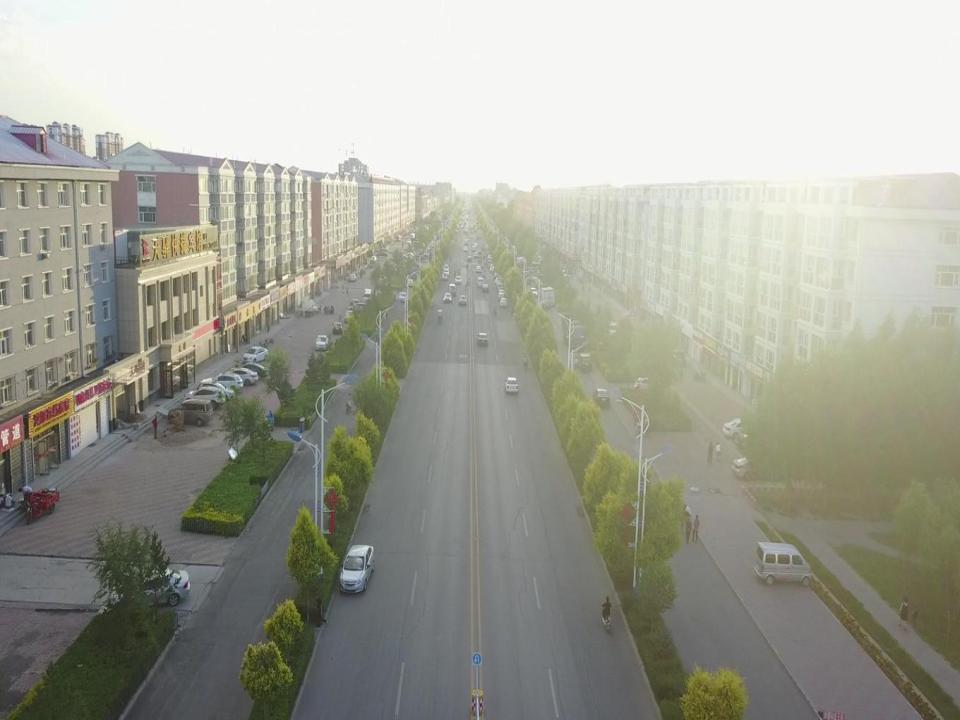car: (117, 568, 191, 607), (339, 544, 374, 593), (732, 456, 784, 482), (735, 429, 778, 452), (722, 417, 764, 439), (183, 388, 225, 408), (197, 380, 235, 402), (220, 368, 258, 388), (209, 373, 243, 391), (241, 346, 268, 364), (236, 364, 269, 377), (591, 388, 610, 408), (503, 376, 519, 393), (634, 378, 654, 390), (348, 302, 368, 314), (604, 320, 618, 337), (580, 353, 592, 372), (315, 334, 328, 350), (476, 332, 488, 346), (343, 308, 354, 322), (332, 322, 343, 334), (397, 292, 408, 302), (529, 286, 538, 298), (443, 292, 452, 304), (458, 295, 467, 306), (402, 252, 414, 260), (500, 297, 508, 307), (377, 252, 388, 259), (481, 284, 489, 293), (440, 274, 448, 283), (498, 289, 506, 297), (454, 276, 462, 284), (348, 273, 356, 281), (406, 280, 414, 288), (370, 255, 376, 264), (489, 264, 496, 271), (493, 272, 499, 280), (487, 260, 493, 268), (475, 264, 481, 272), (443, 269, 449, 277), (495, 278, 502, 284), (467, 255, 473, 261), (488, 254, 493, 261), (406, 238, 411, 245), (485, 243, 491, 248), (473, 252, 478, 258), (473, 242, 478, 248), (383, 245, 388, 251), (472, 246, 477, 251), (478, 249, 482, 254), (464, 247, 468, 252), (404, 245, 407, 250)
truck: (561, 312, 586, 352), (539, 286, 555, 311), (575, 269, 584, 281), (350, 298, 359, 309)
van: (753, 540, 813, 588), (168, 399, 214, 426), (672, 348, 685, 366), (448, 284, 457, 296), (363, 291, 371, 302), (562, 273, 570, 283), (477, 278, 484, 288), (365, 288, 372, 298), (498, 282, 502, 292), (443, 264, 449, 270), (464, 239, 468, 246), (397, 236, 400, 241)
